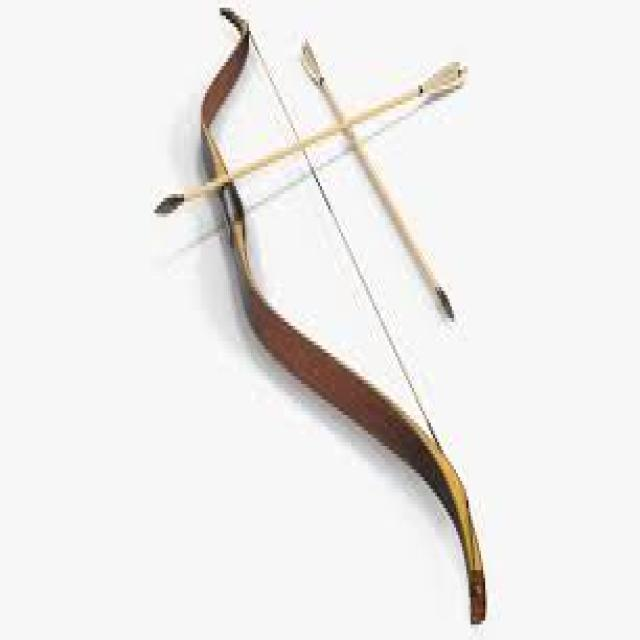X-Bow: (148, 0, 491, 633)
